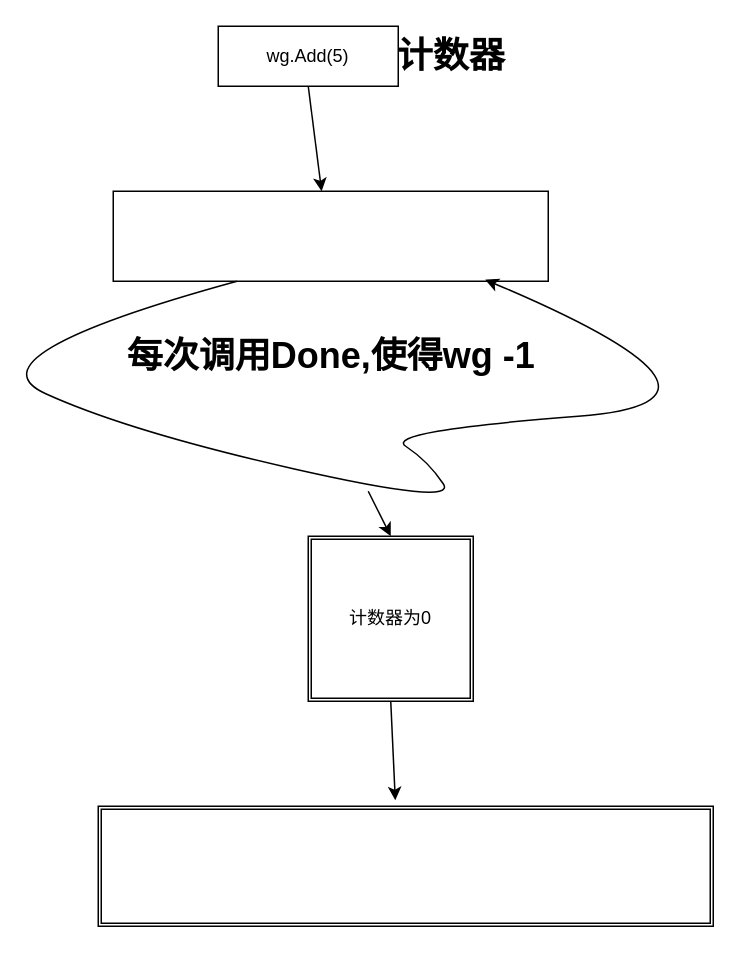
Image size: 740x953. Some labels were removed from this diagram. Each missing label, with the centre of its shape:
"go func(){} 启动5个协程" goes at [330,235].
"wg.Wait() 解除阻塞" goes at [405,865].
